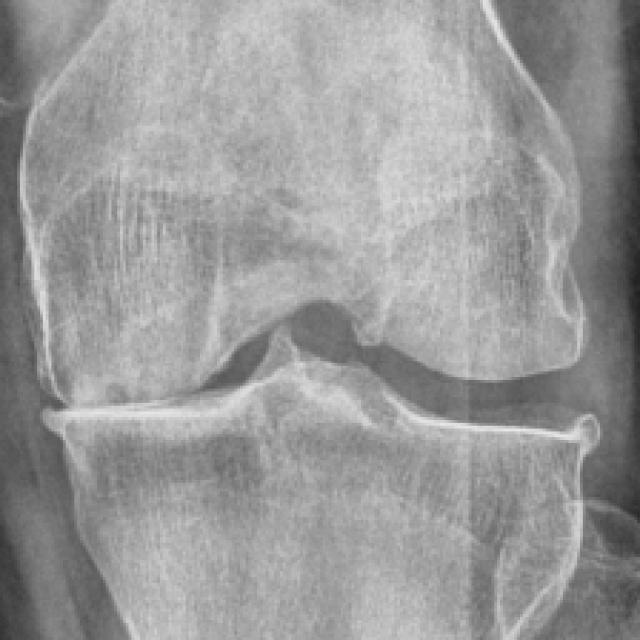femur: (19, 0, 587, 406)
tibia: (38, 326, 600, 640)
